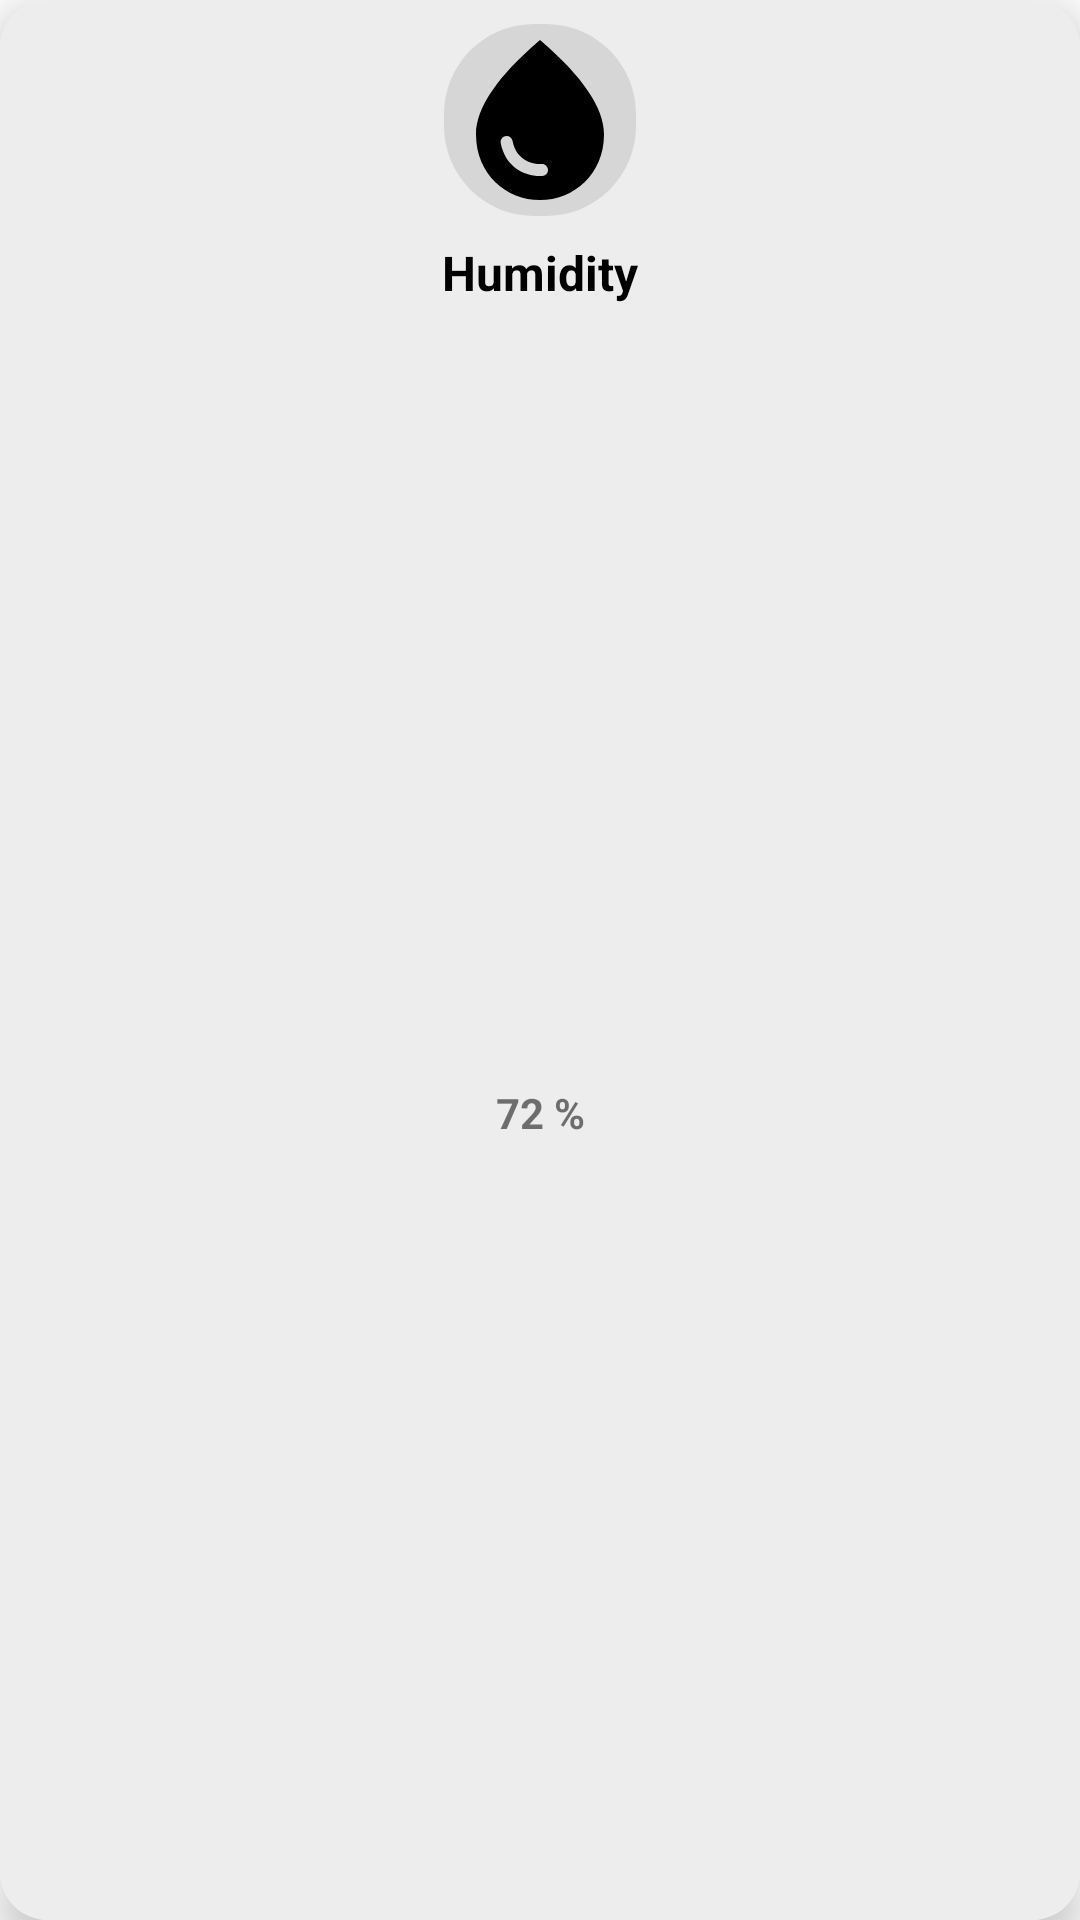

Locate icon controls on the screen. Image size 1080x1920, boxes as detection(x1, y1, x2, y2).
water drop: detection(476, 40, 604, 200)
